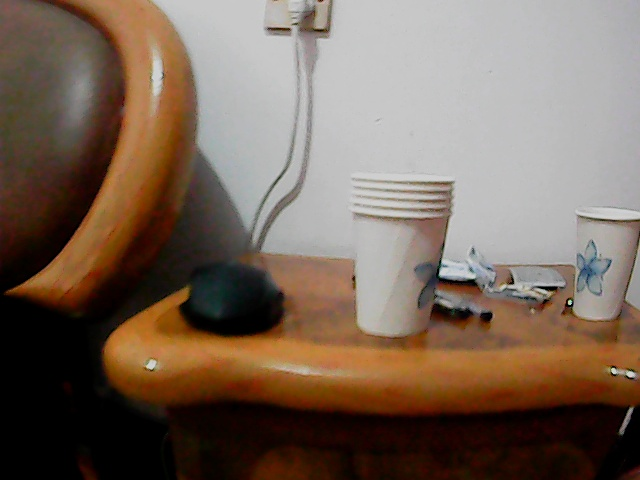cup: (345, 165, 453, 337)
mouse: (181, 258, 290, 338)
